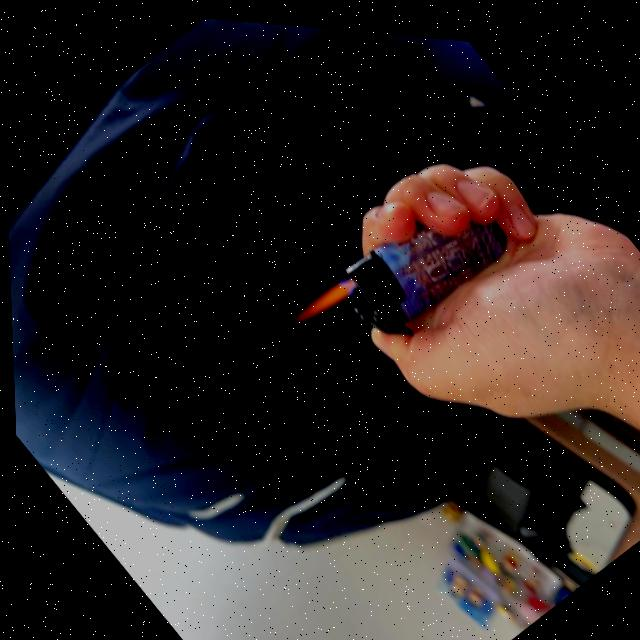Fire: (280, 263, 358, 338)
